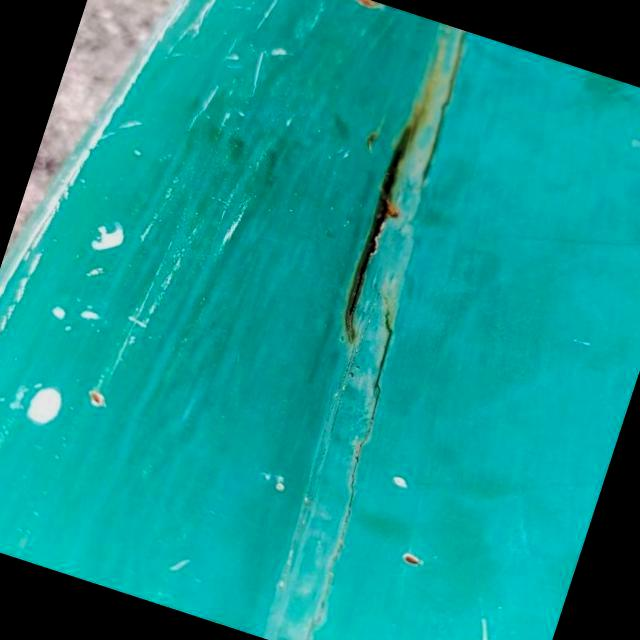defect: (301, 291, 396, 640), (341, 118, 416, 346)
